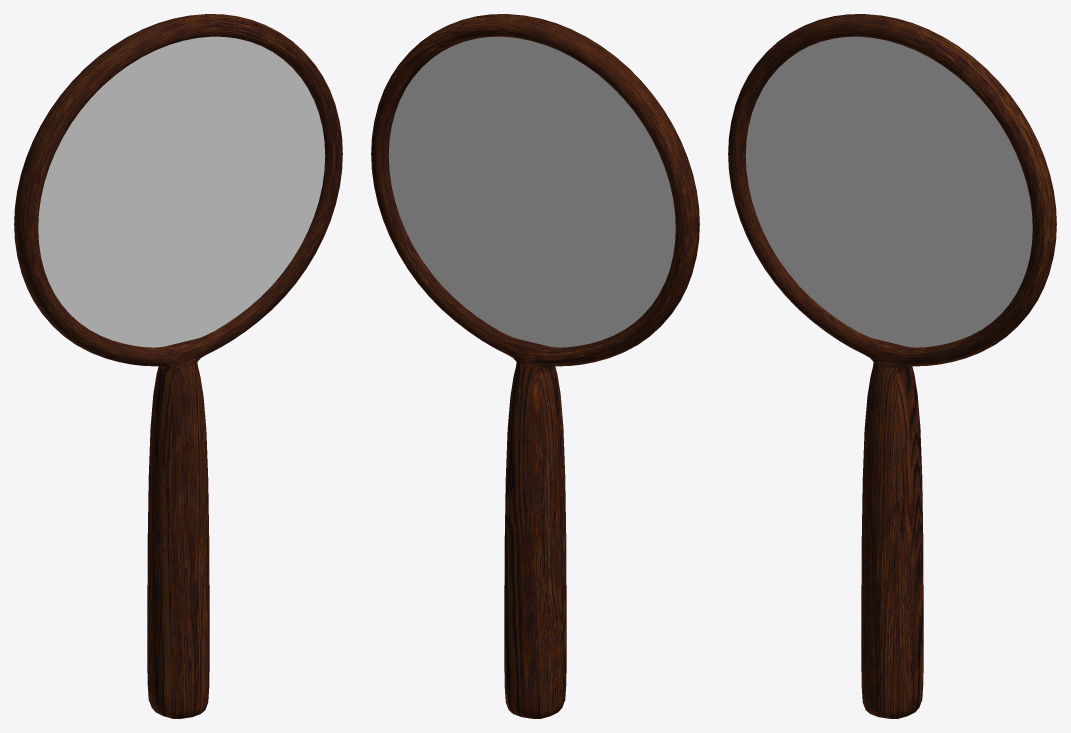
Rendered from LookingGlass.fbx.
The picture shows the model from 3 angles, left to right: view 1: azimuth 30°, elevation 25°; view 2: azimuth 150°, elevation 25°; view 3: azimuth 330°, elevation 25°; orthographic projection.
Parts seen in each view (by area): view 1: Lens, Frame; view 2: Lens, Frame; view 3: Lens, Frame.
Part boxes in pixels (x1,y1,x2,y2): Lens: [38, 36, 325, 347]; Frame: [14, 14, 342, 718]; Lens: [388, 36, 675, 347]; Frame: [371, 14, 699, 718]; Lens: [745, 36, 1032, 347]; Frame: [728, 14, 1056, 718].
Bounding box in the file's own units: 9.74 × 19.91 × 1.71.
